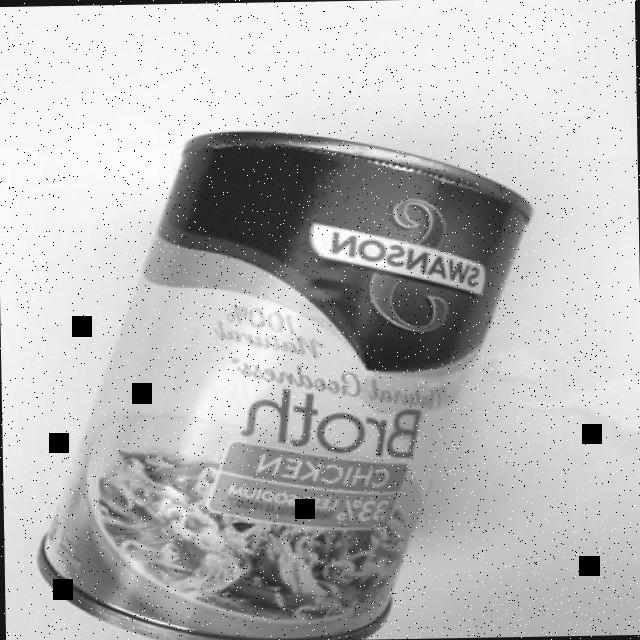can: (23, 120, 546, 640)
